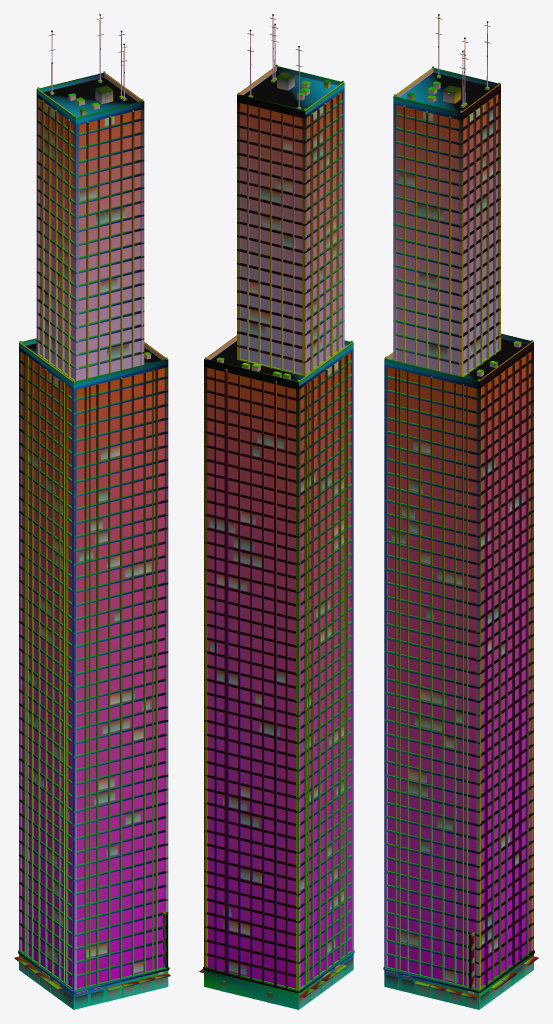
The model's file is Tower_Mast_V11.fbx.
3 views of the same model, side by side, from view 1: azimuth 30°, elevation 25°; view 2: azimuth 150°, elevation 25°; view 3: azimuth 330°, elevation 25° (orthographic).
Parts seen in each view (by area): view 1: Tower_Mast_V11_LOD0; view 2: Tower_Mast_V11_LOD0; view 3: Tower_Mast_V11_LOD0.
Part boxes in pixels (x1,y1,x2,y2): Tower_Mast_V11_LOD0: (14,14,170,1009); Tower_Mast_V11_LOD0: (199,14,354,1009); Tower_Mast_V11_LOD0: (383,14,538,1009).
Size of what is drawn, in the model's own units: 28.8 by 250 by 28.31.
